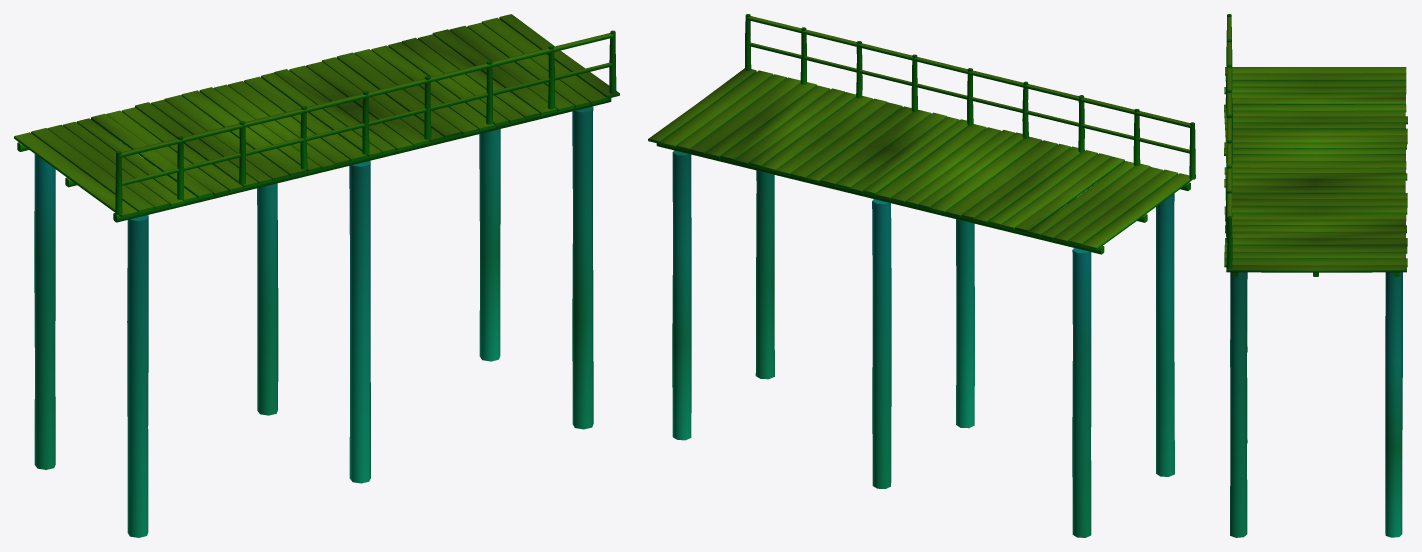
File: boardwalk_8m.glb
3 renders of one model, left to right at view 1: azimuth 30°, elevation 25°; view 2: azimuth 150°, elevation 25°; view 3: azimuth 270°, elevation 25°, orthographic. The views are drawn at different scales.
Parts seen in each view (by area): view 1: boardwalk_8m; view 2: boardwalk_8m; view 3: boardwalk_8m.
Part boxes in pixels (left/top/right/bottom): boardwalk_8m: left=14, top=14, right=619, bottom=537; boardwalk_8m: left=648, top=14, right=1195, bottom=537; boardwalk_8m: left=1224, top=14, right=1407, bottom=537.
Size of what is drawn, in the model's own units: 8.13 by 6.05 by 3.08.
